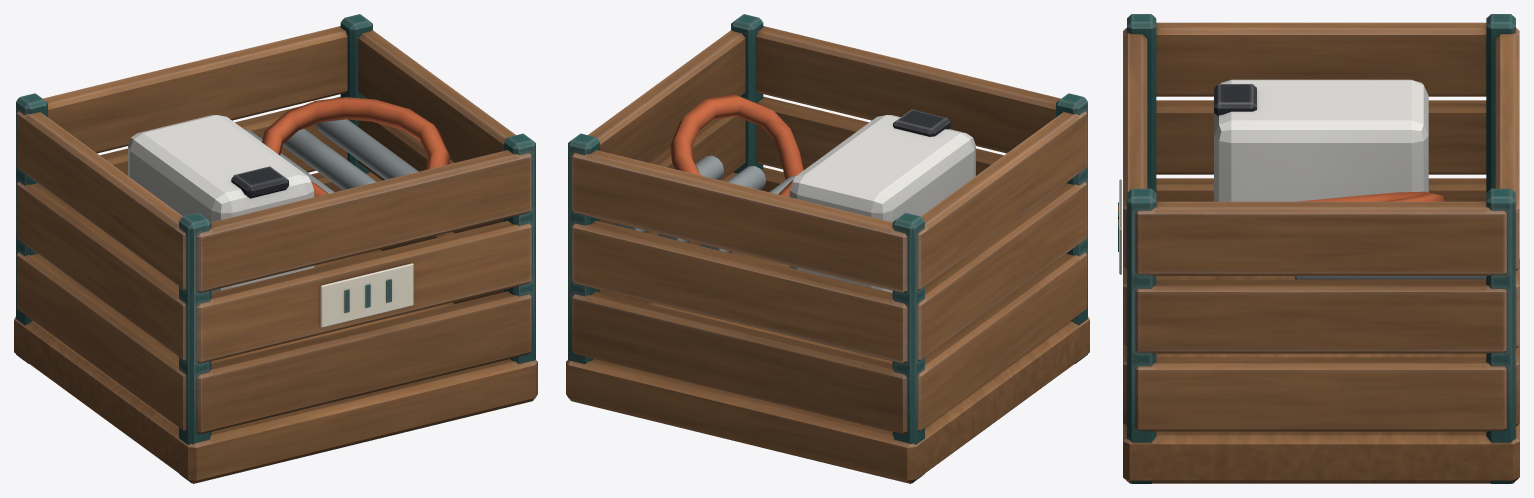
The model's file is prop_salvage_crate.glb.
The picture shows the model from 3 angles, left to right: view 1: azimuth 30°, elevation 25°; view 2: azimuth 150°, elevation 25°; view 3: azimuth 270°, elevation 25°; orthographic projection. The views are drawn at different scales.
Visible parts, largest first — view 1: prop_salvage_crate_mesh; view 2: prop_salvage_crate_mesh; view 3: prop_salvage_crate_mesh.
Part boxes in pixels (<box>): prop_salvage_crate_mesh: <box>14,14,537,483</box>; prop_salvage_crate_mesh: <box>566,14,1089,483</box>; prop_salvage_crate_mesh: <box>1118,14,1519,483</box>.
Size of the model in its own units: 0.835 by 0.59 by 0.749.
1 material, 1 textured.
